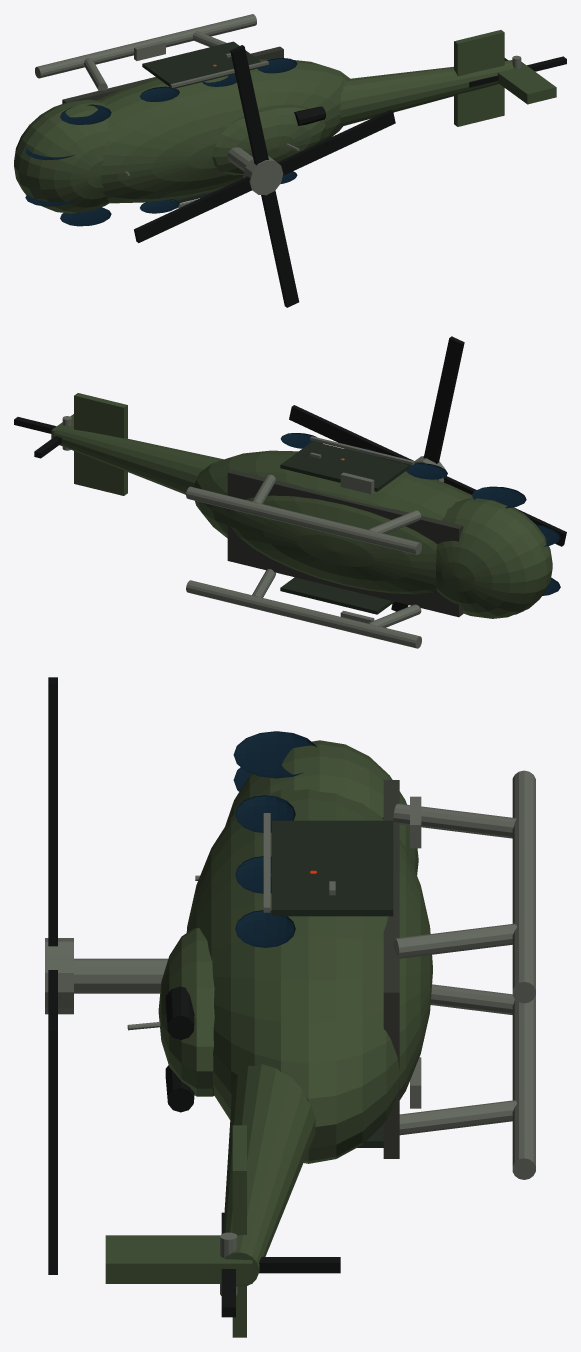
Rendered from helicoptero_militar_transporte.fbx.
3 renders of one model, top to bottom at view 1: azimuth 30°, elevation 25°; view 2: azimuth 150°, elevation 25°; view 3: azimuth 270°, elevation 25°, orthographic. The views are drawn at different scales.
Parts seen in each view (by area): view 1: Fuselagem_principal, Nariz_cabine, Lanca_traseira, Pa_rotor_principal_0, Carenagem_motor, Pa_rotor_principal_90, Estabilizador_horizontal, Porta_lateral_1, Esqui_1, Deriva_vertical, Cubo_rotor, Pa_rotor_principal_180 (+12 smaller); view 2: Fuselagem_principal, Nariz_cabine, Piso_cabine, Lanca_traseira, Estabilizador_horizontal, Esqui_-1, Esqui_1, Porta_lateral_1, Pa_rotor_principal_90, Pa_rotor_principal_0, Porta_lateral_-1, Pa_rotor_principal_270 (+8 smaller); view 3: Fuselagem_principal, Porta_lateral_1, Lanca_traseira, Nariz_cabine, Deriva_vertical, Carenagem_motor, Esqui_1, Pa_rotor_principal_90, Esqui_-1, Piso_cabine, Mastro_rotor, Suporte_esqui_traseiro_1 (+13 smaller).
Boxes of the visible parts, x1,y1,x2,y2 form: Fuselagem_principal: [97, 59, 349, 203]; Nariz_cabine: [14, 99, 109, 213]; Lanca_traseira: [340, 60, 521, 126]; Pa_rotor_principal_0: [134, 109, 395, 242]; Carenagem_motor: [212, 104, 325, 175]; Pa_rotor_principal_90: [230, 45, 299, 307]; Estabilizador_horizontal: [454, 30, 504, 126]; Porta_lateral_1: [142, 41, 263, 88]; Esqui_1: [35, 14, 256, 78]; Deriva_vertical: [497, 62, 556, 104]; Cubo_rotor: [243, 156, 283, 195]; Pa_rotor_principal_180: [137, 113, 395, 241]; Fuselagem_principal: [194, 450, 472, 594]; Nariz_cabine: [436, 498, 552, 618]; Piso_cabine: [227, 469, 463, 617]; Lanca_traseira: [53, 424, 223, 494]; Estabilizador_horizontal: [74, 393, 127, 495]; Esqui_-1: [186, 580, 421, 648]; Esqui_1: [186, 486, 421, 554]; Porta_lateral_1: [280, 441, 409, 491]; Pa_rotor_principal_90: [391, 336, 464, 611]; Pa_rotor_principal_0: [289, 405, 566, 546]; Porta_lateral_-1: [280, 577, 394, 614]; Pa_rotor_principal_270: [392, 340, 461, 610]; Fuselagem_principal: [186, 789, 432, 1163]; Porta_lateral_1: [272, 820, 393, 916]; Lanca_traseira: [223, 1064, 315, 1286]; Nariz_cabine: [225, 740, 418, 874]; Deriva_vertical: [105, 1235, 252, 1283]; Carenagem_motor: [158, 928, 214, 1096]; Esqui_1: [512, 770, 535, 1003]; Pa_rotor_principal_90: [48, 677, 57, 1274]; Esqui_-1: [512, 995, 535, 1179]; Piso_cabine: [383, 780, 399, 1158]; Mastro_rotor: [74, 958, 168, 993]; Suporte_esqui_traseiro_1: [393, 923, 516, 958].
Bounding box in the file's own units: 7.58 × 3.75 × 3.07.
